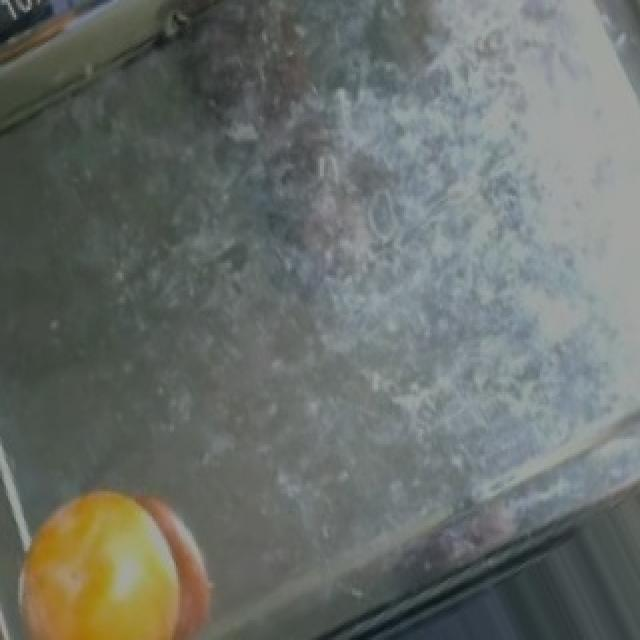Fruit: (0, 466, 208, 640)
